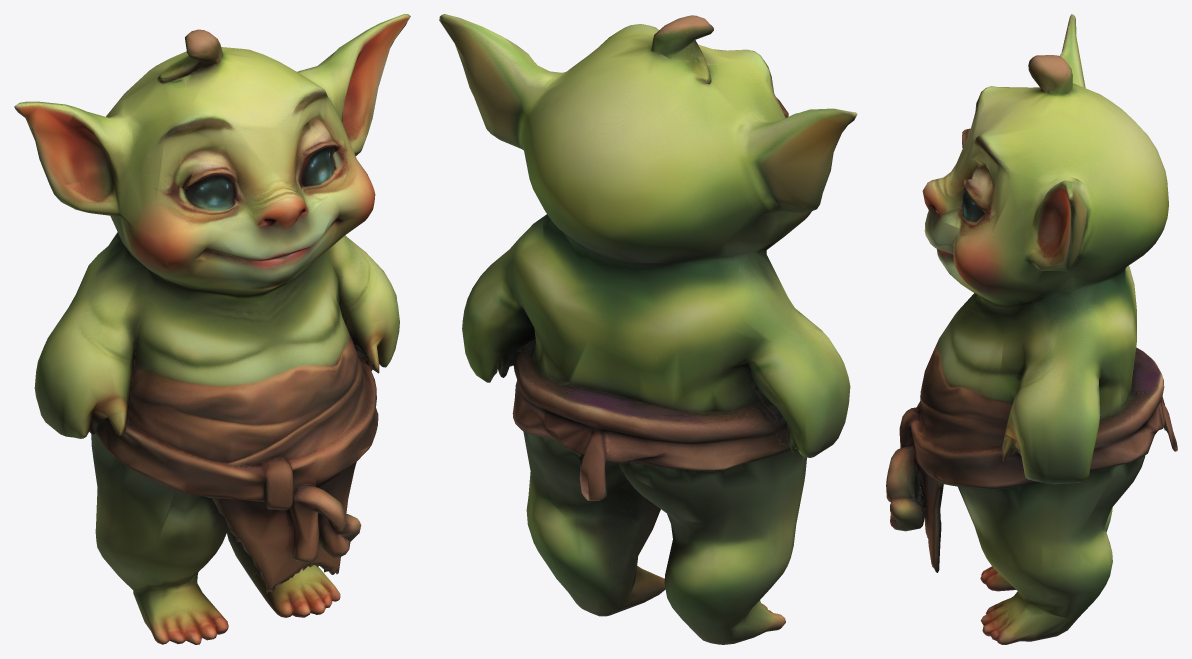
The model's file is goblin_v2.glb.
3 renders of one model, left to right at view 1: azimuth 30°, elevation 25°; view 2: azimuth 150°, elevation 25°; view 3: azimuth 270°, elevation 25°, orthographic. The views are drawn at different scales.
Size of the model in its own units: 1.43 by 2 by 0.98.
Materials: 1 (1 with a texture image).
